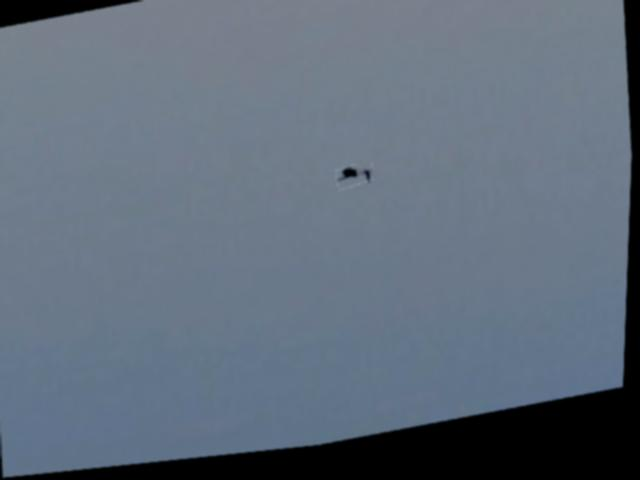insansiz-hava-araci: (336, 168, 376, 197)
